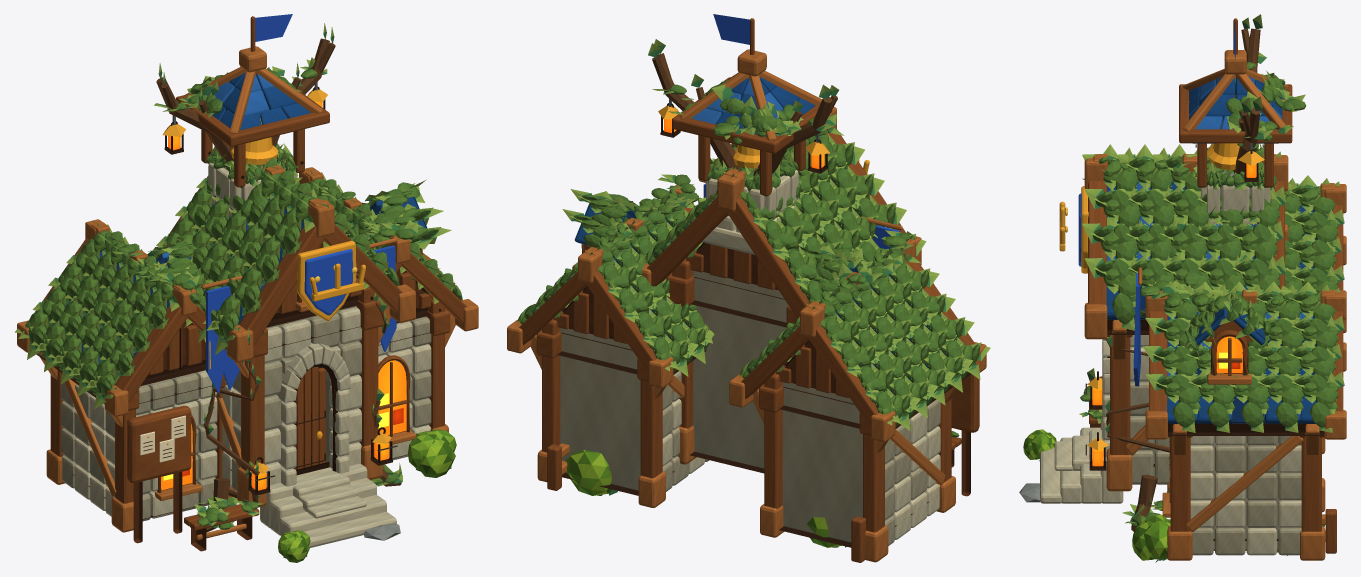
File: town_hall.glb
3 renders of one model, left to right at view 1: azimuth 30°, elevation 25°; view 2: azimuth 150°, elevation 25°; view 3: azimuth 270°, elevation 25°, orthographic. The views are drawn at different scales.
Visible parts, largest first — view 1: Civic notice board, Carved roof verge.008, Corner upright.008, Corner upright.010, Carved roof verge, Barracks heraldic shield.001, Cloth heraldic banner, Limestone entrance step.004, Carved roof verge.010, Corner upright.006, Roof eave beam, Limestone entrance step.003 (+48 smaller); view 2: Cottage walls.002, Cottage walls, Cottage walls.001, Carved roof verge.009, Carved roof verge.011, Corner upright.005, Corner upright.003, Corner upright.007, Corner upright.001, Carved roof verge.005, Carved roof verge.001, Leaf cluster.011 (+29 smaller); view 3: Corner upright.010, Corner upright.007, Corner upright.006, Side wall diagonal.003, Carved roof verge.010, Roof eave.003, Roof eave beam.001, Carved roof verge.006, Limestone entrance step.003, Projecting timber footing.010, Limestone entrance step.005, Side limestone block.053 (+59 smaller).
Boxes of the visible parts, bbox=[...] form: Civic notice board: bbox=[127, 405, 191, 483]; Carved roof verge.008: bbox=[238, 225, 325, 346]; Corner upright.008: bbox=[241, 355, 264, 470]; Corner upright.010: bbox=[358, 286, 378, 446]; Carved roof verge: bbox=[114, 305, 188, 402]; Barracks heraldic shield.001: bbox=[304, 249, 352, 315]; Cloth heraldic banner: bbox=[206, 286, 239, 392]; Limestone entrance step.004: bbox=[280, 495, 386, 536]; Carved roof verge.010: bbox=[324, 224, 402, 313]; Corner upright.006: bbox=[428, 300, 444, 428]; Roof eave beam: bbox=[226, 110, 329, 146]; Limestone entrance step.003: bbox=[304, 512, 396, 547]; Cottage walls.002: bbox=[693, 270, 788, 468]; Cottage walls: bbox=[782, 382, 862, 542]; Cottage walls.001: bbox=[560, 328, 640, 490]; Carved roof verge.009: bbox=[727, 197, 809, 318]; Carved roof verge.011: bbox=[647, 197, 728, 286]; Corner upright.005: bbox=[640, 380, 662, 478]; Corner upright.003: bbox=[764, 372, 782, 508]; Corner upright.007: bbox=[542, 318, 560, 452]; Corner upright.001: bbox=[863, 434, 884, 532]; Carved roof verge.005: bbox=[586, 271, 657, 373]; Carved roof verge.001: bbox=[808, 325, 879, 427]; Leaf cluster.011: bbox=[567, 450, 612, 495]; Corner upright.010: bbox=[1110, 337, 1130, 454]; Corner upright.007: bbox=[1301, 437, 1321, 531]; Corner upright.006: bbox=[1170, 437, 1190, 531]; Side wall diagonal.003: bbox=[1186, 436, 1303, 531]; Carved roof verge.010: bbox=[1088, 181, 1106, 304]; Roof eave.003: bbox=[1168, 422, 1324, 435]; Roof eave beam.001: bbox=[1179, 129, 1292, 143]; Carved roof verge.006: bbox=[1149, 311, 1167, 411]; Limestone entrance step.003: bbox=[1040, 447, 1061, 503]; Projecting timber footing.010: bbox=[1106, 448, 1132, 491]; Limestone entrance step.005: bbox=[1080, 427, 1101, 503]; Side limestone block.053: bbox=[1246, 500, 1276, 527].
Bounding box in the file's own units: 5.02 × 5.98 × 3.74.
Materials: 40 (31 with a texture image).
